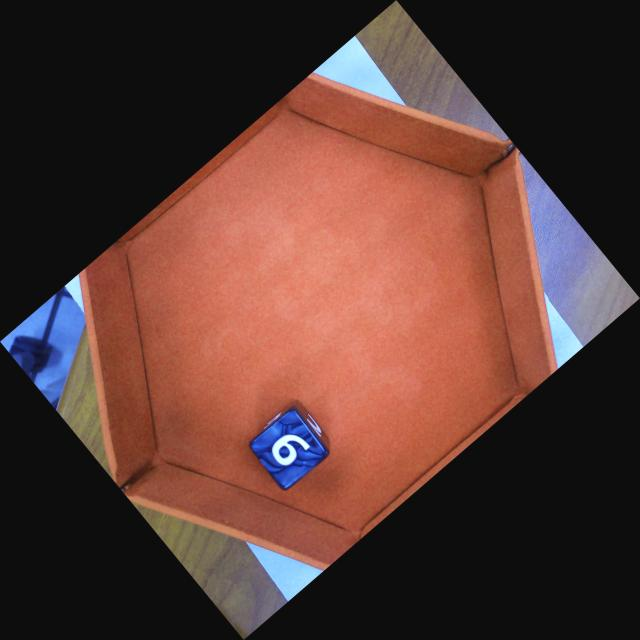dice: (246, 405, 331, 493)
